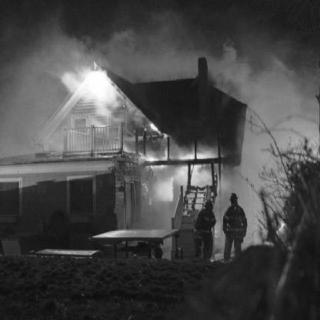Fire: (145, 120, 171, 138)
